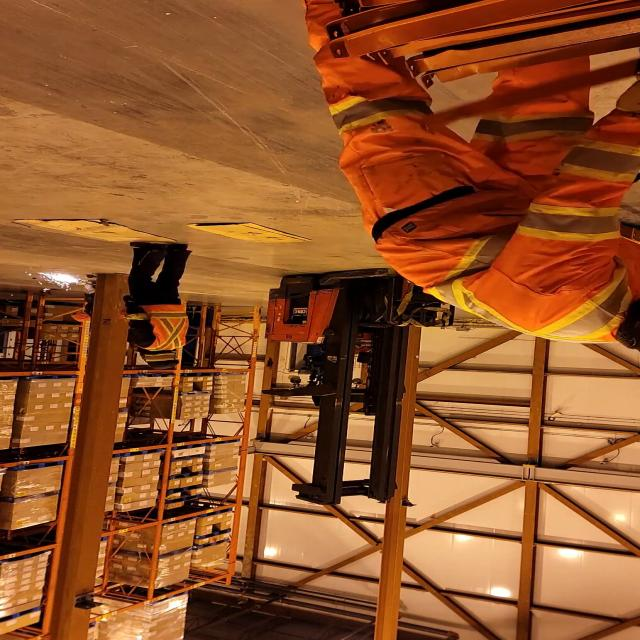forklift: (262, 264, 483, 497)
human: (293, 22, 640, 368), (115, 238, 212, 370)
objectofinterest: (7, 216, 184, 248), (189, 222, 312, 246)
